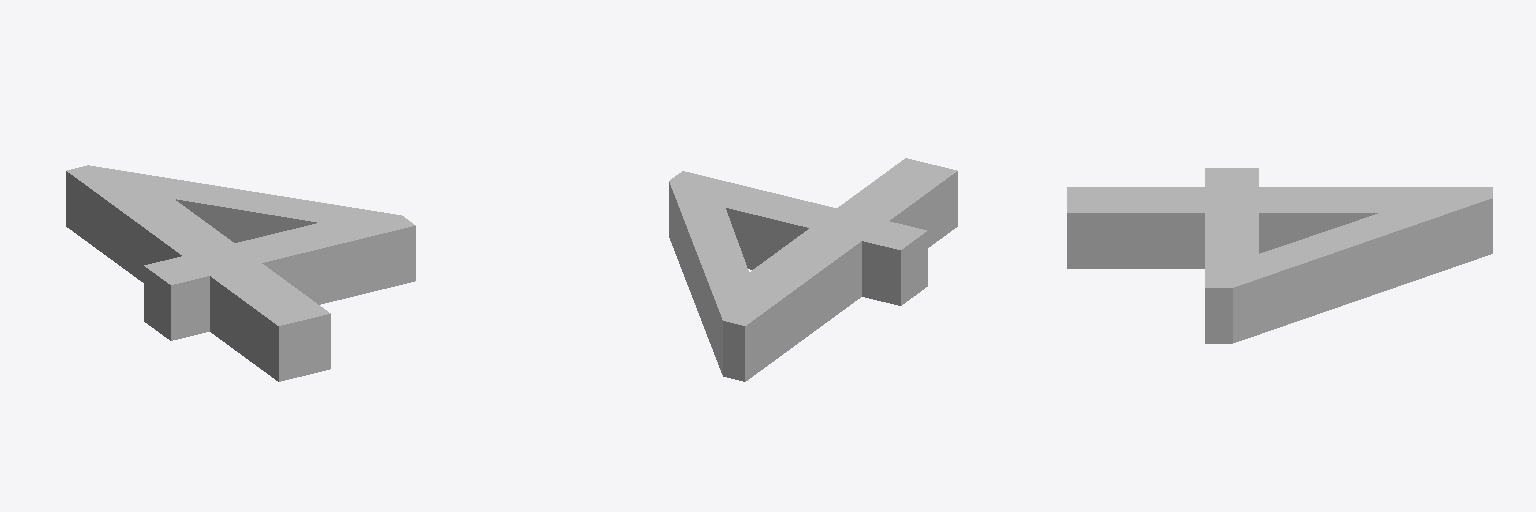
Rendered from score_4.obj.
3 renders of one model, left to right at view 1: azimuth 30°, elevation 25°; view 2: azimuth 150°, elevation 25°; view 3: azimuth 270°, elevation 25°, orthographic.
Parts seen in each view (by area): view 1: 0_Text.002; view 2: 0_Text.002; view 3: 0_Text.002.
Boxes of the visible parts, x1=… form: 0_Text.002: x1=66, y1=165, x2=415, y2=381; 0_Text.002: x1=669, y1=158, x2=957, y2=381; 0_Text.002: x1=1067, y1=168, x2=1492, y2=343.
Size of the model in its own units: 0.46 by 0.1 by 0.691.